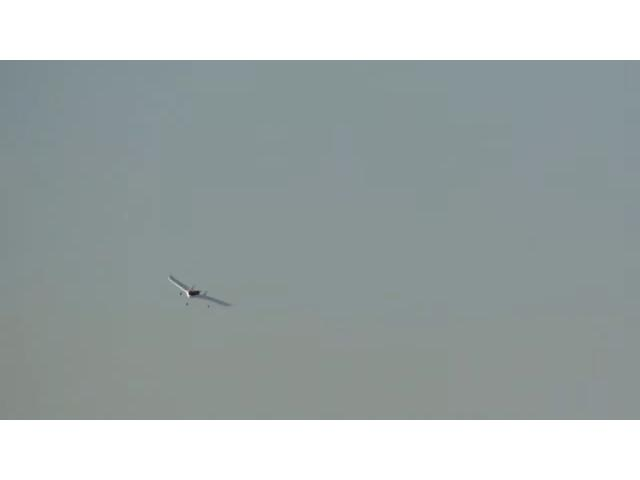Anti-Drone: (170, 274, 230, 308)
